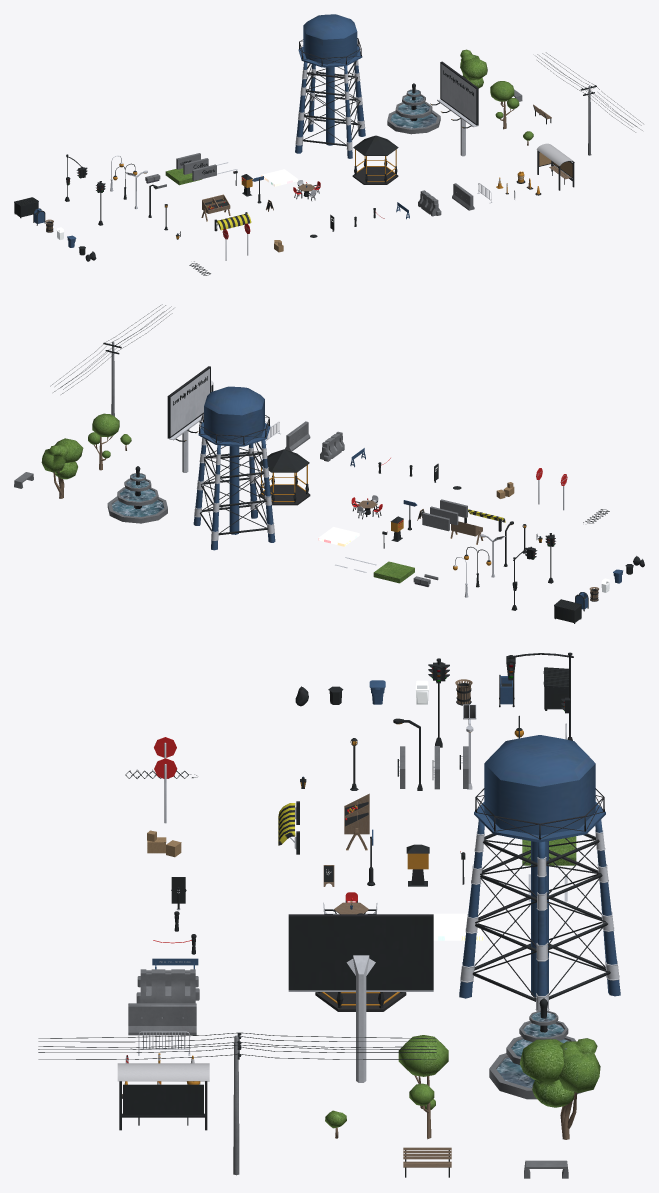
File: city_props.glb
3 views of the same model, one above another, from view 1: azimuth 30°, elevation 25°; view 2: azimuth 150°, elevation 25°; view 3: azimuth 270°, elevation 25° (orthographic). The views are drawn at different scales.
Parts seen in each view (by area): view 1: Object_4; view 2: Object_4; view 3: Object_4.
Boxes of the visible parts, x1,y1,x2,y2 form: Object_4: [14, 14, 643, 275]; Object_4: [14, 304, 644, 623]; Object_4: [38, 652, 620, 1178].
Bounding box in the file's own units: 42.95 × 10.33 × 21.66.
2 materials, 1 textured.
